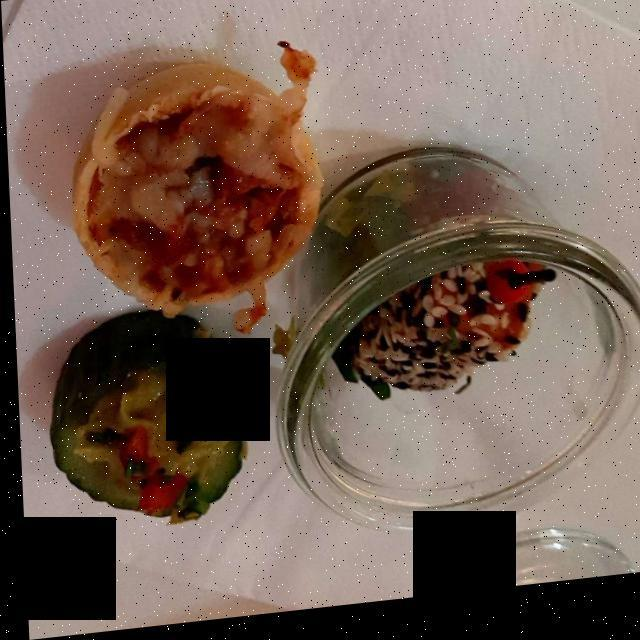cucumber: (29, 324, 239, 527)
guacamole: (81, 372, 223, 509)
sesame-seeds: (352, 259, 502, 404)
